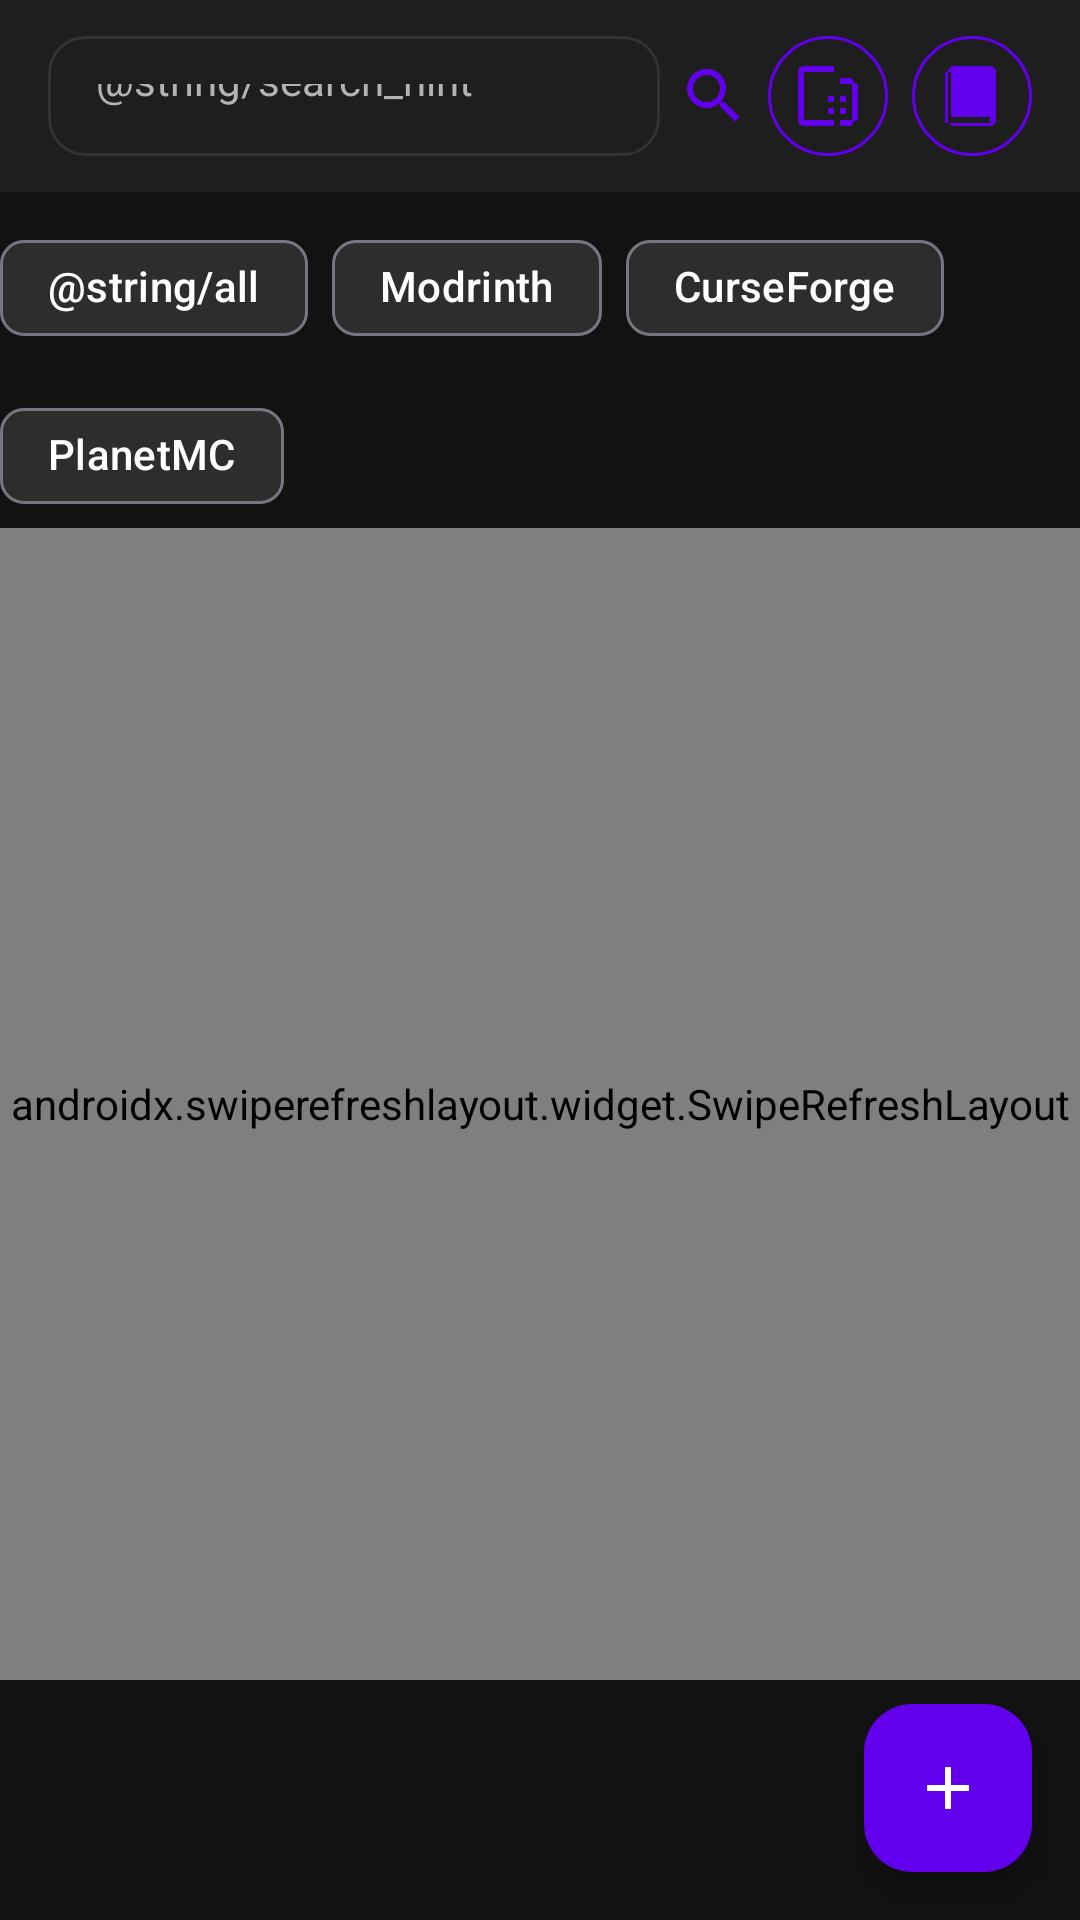

Where to tap for icons on this 1080 x 1920 app screen, as [x,y]:
add: [948,1788]
search: [713,95]
